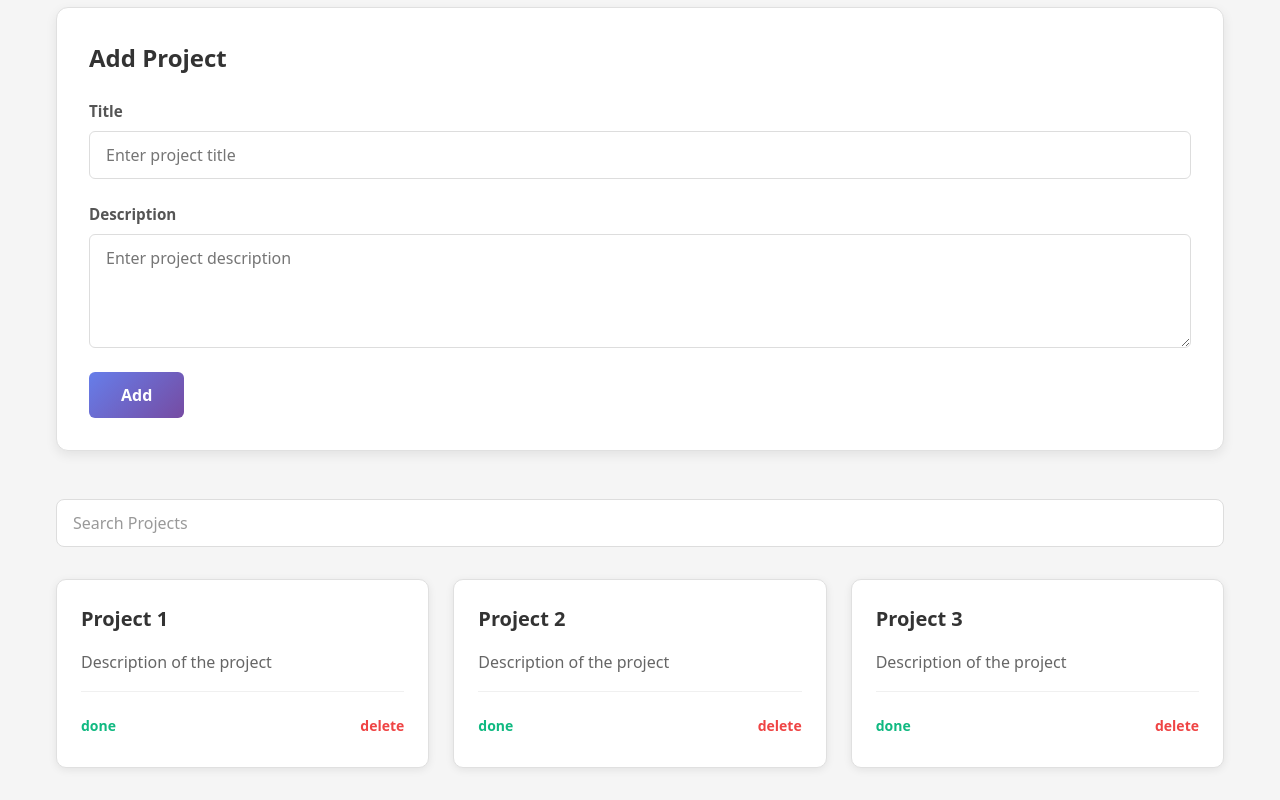
App › deletes project when delete button is clicked
The image size is (1280, 800).
(page scrolled)
Click the button "delete" below "Project 1".
click(328, 726)  # box [251,708,404,743]
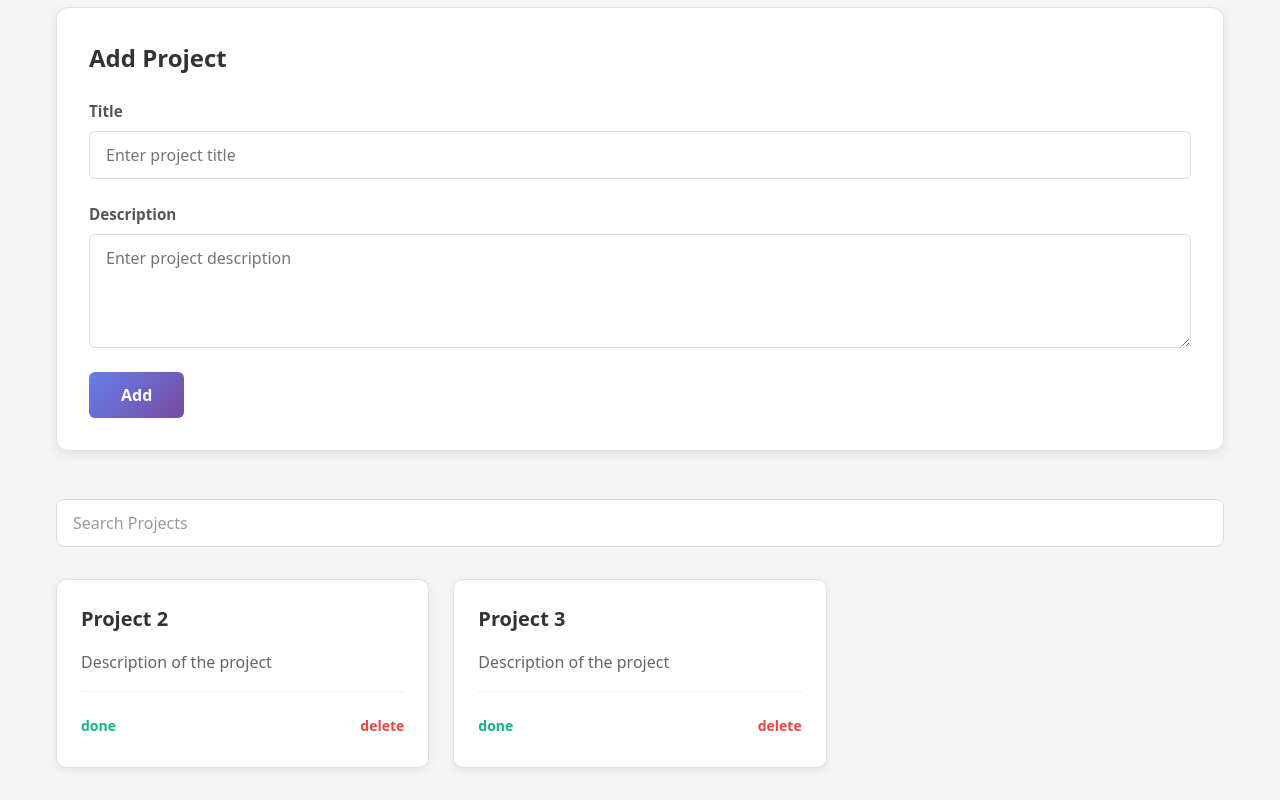
Expected: the heading "Project 1" is gone
